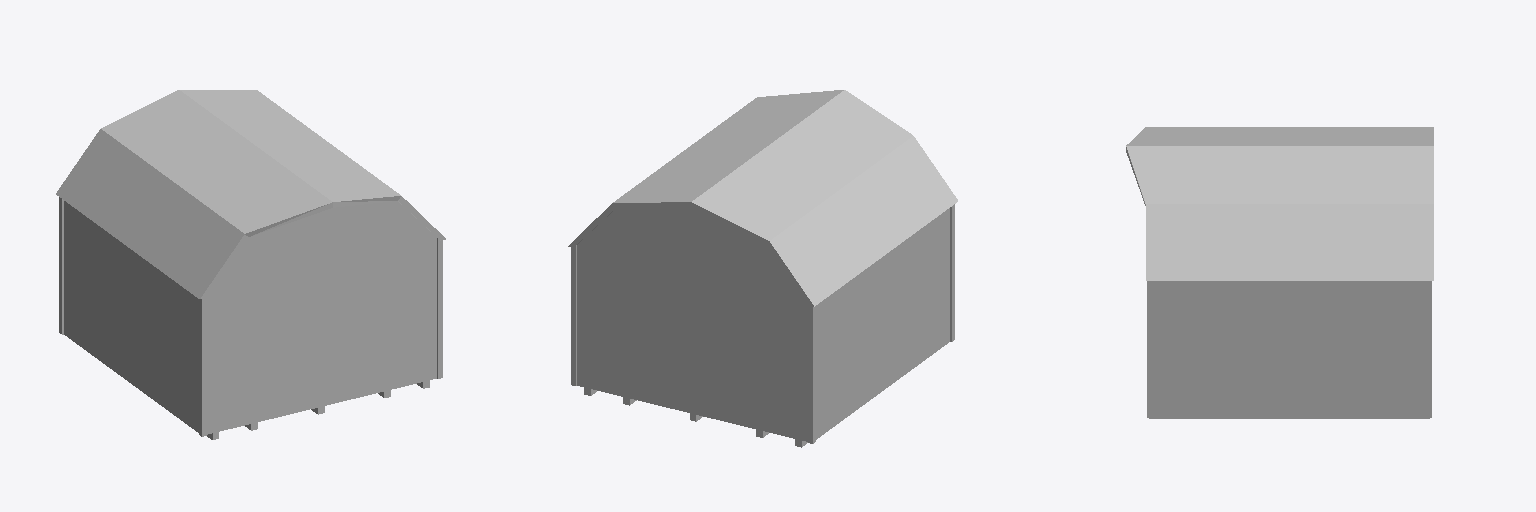
Rendered from High Wall Barns_12x12.obj.
3 views of the same model, side by side, from view 1: azimuth 30°, elevation 25°; view 2: azimuth 150°, elevation 25°; view 3: azimuth 270°, elevation 25° (orthographic).
Visible parts, largest first — view 1: High Wall Barns_12x12.obj; view 2: High Wall Barns_12x12.obj; view 3: High Wall Barns_12x12.obj.
Boxes of the visible parts, <box> form: High Wall Barns_12x12.obj: <box>56,90,445,439</box>; High Wall Barns_12x12.obj: <box>568,90,957,447</box>; High Wall Barns_12x12.obj: <box>1126,127,1433,418</box>.
Bounding box in the file's own units: 3.72 × 3.17 × 4.01.